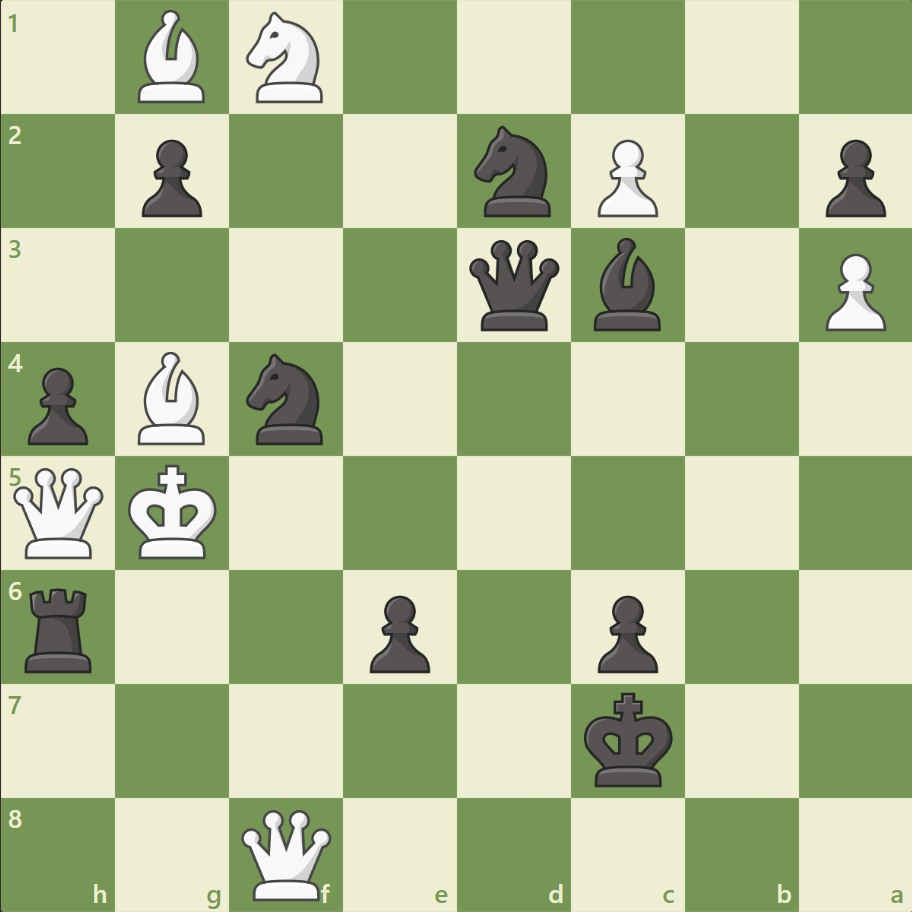B: (131, 6, 215, 109), (131, 347, 215, 449)
K: (124, 458, 224, 566)
N: (238, 7, 335, 110)
P: (815, 246, 889, 337), (588, 132, 662, 223)
Q: (237, 804, 336, 903), (10, 463, 109, 562)
b: (585, 233, 669, 336)
k: (579, 685, 679, 793)
n: (238, 348, 335, 450), (465, 121, 562, 223)
p: (20, 359, 95, 450), (133, 132, 208, 223), (588, 586, 662, 677), (361, 586, 435, 677), (815, 132, 889, 223)
q: (464, 236, 563, 335)
r: (19, 579, 102, 676)
